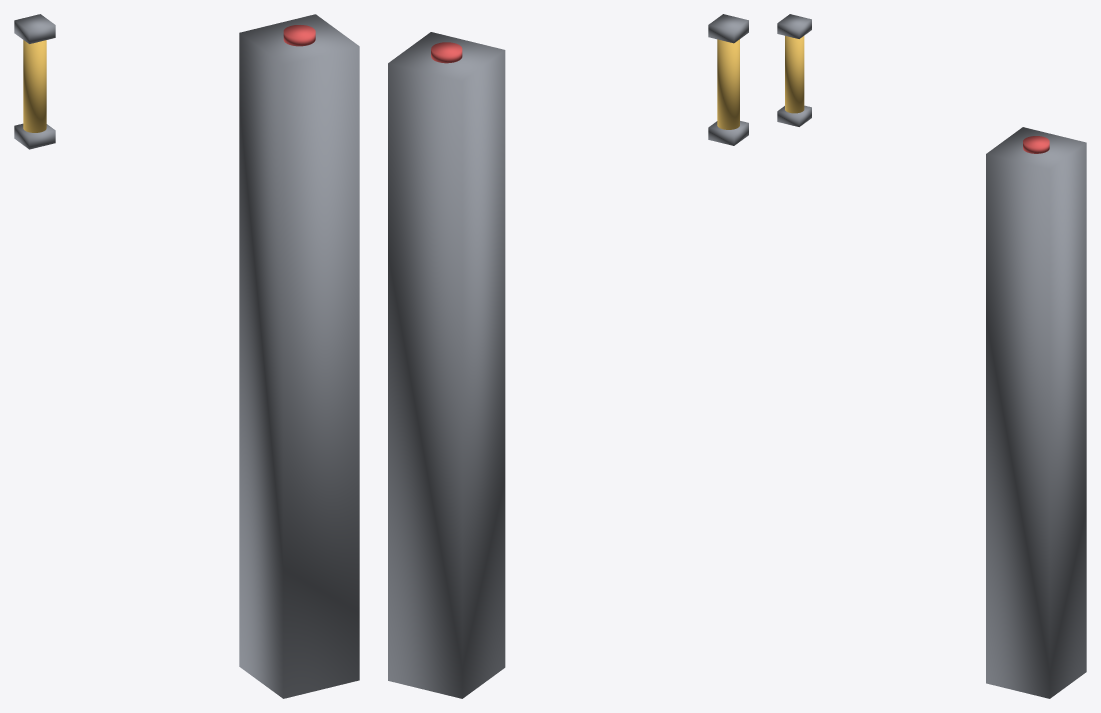
File: test_props.glb
3 views of the same model, side by side, from view 1: azimuth 30°, elevation 25°; view 2: azimuth 150°, elevation 25°; view 3: azimuth 330°, elevation 25° (orthographic). The views are drawn at different scales.
Visible parts, largest first — view 1: TestButton_Pedestal, TestHandle, TestHandle_MountTop, TestHandle_MountBottom, TestButton; view 2: TestButton_Pedestal, TestHandle, TestHandle_MountTop, TestHandle_MountBottom, TestButton; view 3: TestButton_Pedestal, TestHandle, TestHandle_MountTop, TestHandle_MountBottom.
Boxes of the visible parts, x1,y1,x2,y2 form: TestButton_Pedestal: [239, 14, 359, 698]; TestHandle: [23, 40, 46, 132]; TestHandle_MountTop: [14, 14, 55, 43]; TestHandle_MountBottom: [14, 123, 55, 149]; TestButton: [283, 25, 315, 46]; TestButton_Pedestal: [388, 32, 505, 698]; TestHandle: [717, 39, 739, 129]; TestHandle_MountTop: [708, 14, 748, 43]; TestHandle_MountBottom: [708, 121, 748, 145]; TestButton: [431, 42, 462, 63]; TestButton_Pedestal: [986, 127, 1086, 698]; TestHandle: [785, 36, 804, 113]; TestHandle_MountTop: [777, 14, 811, 38]; TestHandle_MountBottom: [777, 105, 811, 126].
Bounding box in the file's own units: 0.5162 × 1.09 × 0.12.
